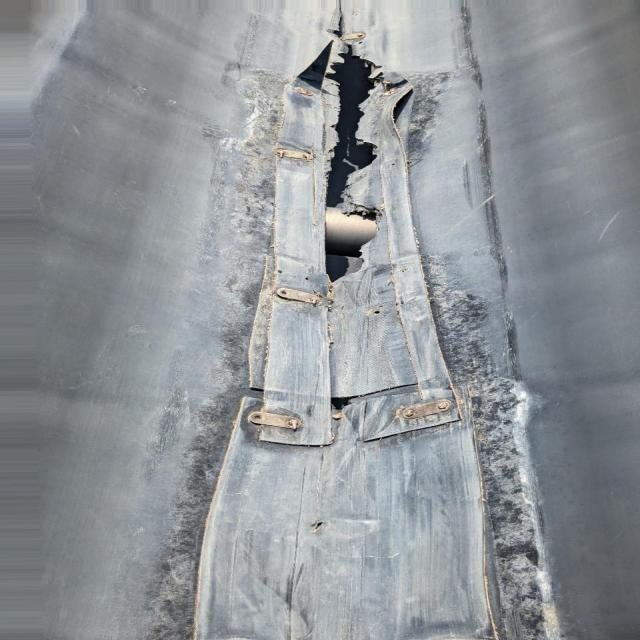Hole: (288, 42, 392, 288)
